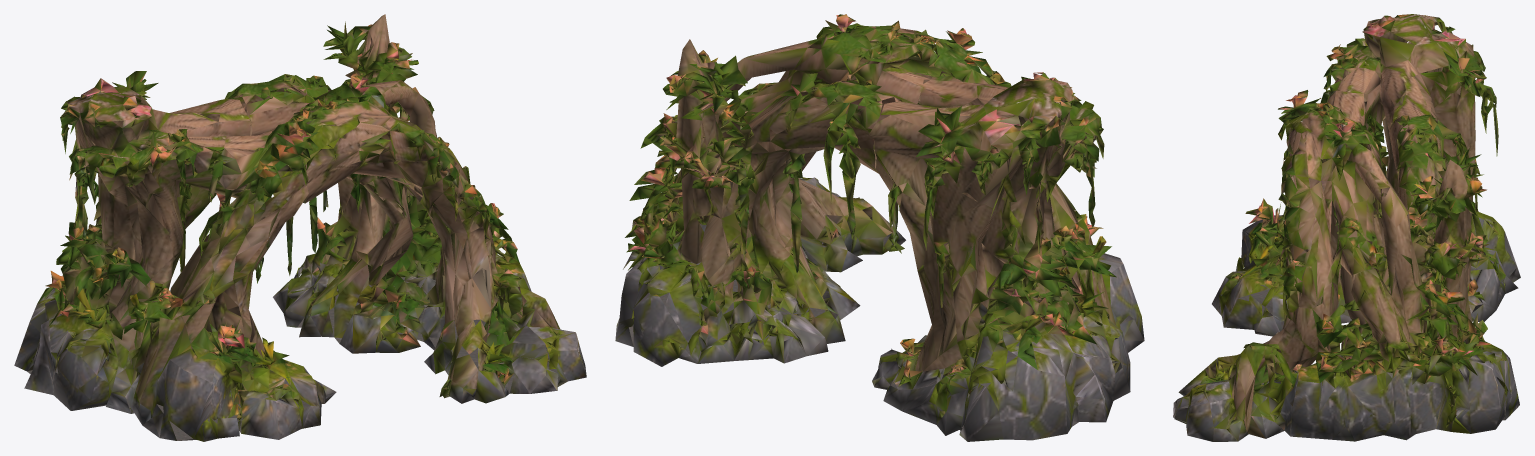
The model's file is root_bridge.glb.
3 renders of one model, left to right at view 1: azimuth 30°, elevation 25°; view 2: azimuth 150°, elevation 25°; view 3: azimuth 270°, elevation 25°, orthographic. The views are drawn at different scales.
Visible parts, largest first — view 1: Mesh_0; view 2: Mesh_0; view 3: Mesh_0.
Part boxes in pixels (left/top/right/bottom): Mesh_0: left=14, top=14, right=586, bottom=441; Mesh_0: left=615, top=14, right=1144, bottom=441; Mesh_0: left=1173, top=14, right=1520, bottom=441.
Size of the model in its own units: 1.89 by 1.17 by 1.38.
1 material, 1 textured.
